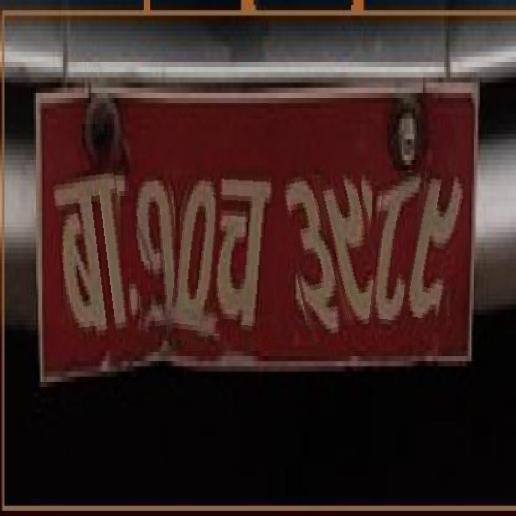0: (173, 169, 220, 342)
1: (132, 170, 181, 352)
3: (284, 169, 344, 342)
8: (372, 170, 421, 337)
9: (324, 170, 386, 332), (405, 170, 466, 332)
ba: (55, 169, 132, 353)
cha: (210, 164, 276, 337)
